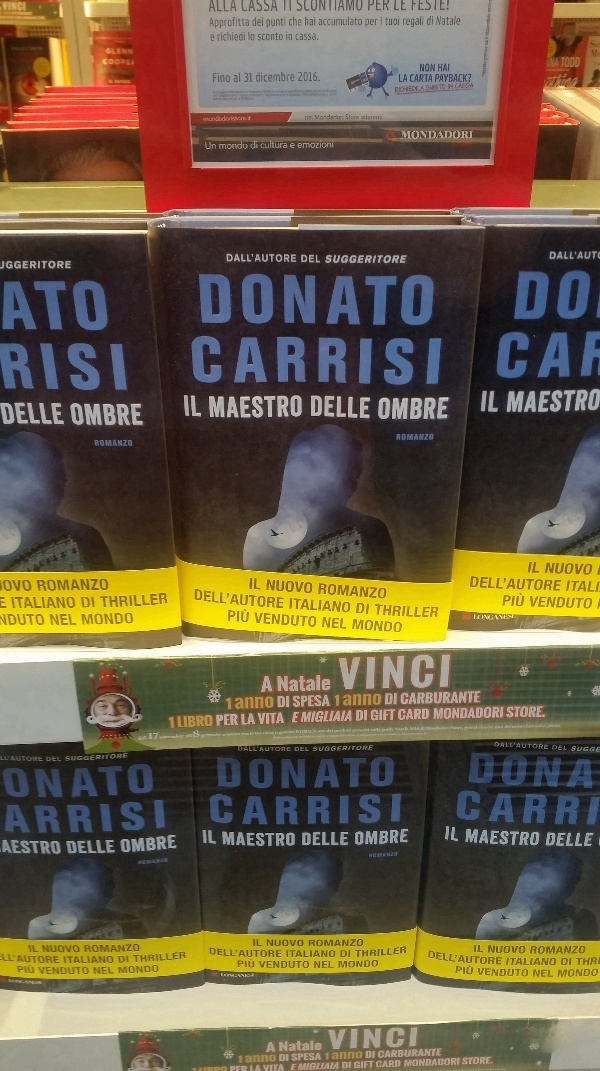text: (209, 268, 224, 331), (225, 268, 240, 331), (241, 268, 256, 331), (257, 268, 272, 331), (273, 268, 288, 331), (289, 268, 304, 331), (305, 268, 320, 331), (321, 268, 336, 331), (337, 268, 352, 331), (353, 268, 368, 331), (369, 268, 384, 331), (385, 268, 400, 331), (401, 268, 416, 331), (417, 268, 432, 331), (482, 13, 496, 79), (193, 331, 208, 392), (209, 331, 224, 392), (225, 331, 240, 392), (241, 331, 256, 392), (257, 331, 272, 392), (273, 331, 288, 392), (289, 331, 304, 392), (305, 331, 320, 392), (321, 331, 336, 392), (337, 331, 352, 392), (353, 331, 368, 392), (369, 331, 384, 392), (385, 331, 400, 392), (401, 331, 416, 392), (417, 331, 432, 392), (17, 277, 32, 334), (33, 277, 48, 334), (49, 277, 64, 334), (65, 277, 80, 334), (81, 277, 96, 334), (529, 268, 544, 324), (545, 268, 560, 324), (561, 268, 576, 324), (577, 268, 592, 324), (1, 340, 16, 394), (17, 340, 32, 394), (33, 340, 48, 394), (49, 340, 64, 394), (65, 340, 80, 394), (81, 340, 96, 394), (97, 340, 112, 394), (113, 340, 128, 394), (513, 328, 528, 381), (529, 328, 544, 381), (545, 328, 560, 381), (97, 277, 110, 334), (481, 746, 496, 793), (497, 746, 512, 793), (513, 746, 528, 793), (529, 746, 544, 793), (545, 746, 560, 793), (561, 746, 576, 793), (577, 746, 592, 793), (197, 268, 208, 331), (465, 788, 480, 834), (481, 788, 496, 834), (497, 788, 512, 834), (513, 788, 528, 834), (529, 788, 544, 834), (545, 788, 560, 834), (561, 788, 576, 834), (577, 788, 592, 834), (499, 328, 512, 381), (4, 277, 16, 334), (433, 331, 444, 392), (17, 796, 32, 839), (33, 796, 48, 839), (49, 796, 64, 839), (65, 796, 80, 839), (81, 796, 96, 839), (97, 796, 112, 839), (113, 796, 128, 839), (129, 796, 144, 839), (145, 796, 160, 839), (17, 762, 32, 803), (33, 762, 48, 803), (49, 762, 64, 803), (65, 762, 80, 803), (81, 762, 96, 803), (97, 762, 112, 803), (113, 762, 128, 803), (129, 762, 144, 803), (225, 753, 240, 794), (241, 753, 256, 794), (257, 753, 272, 794), (273, 753, 288, 794), (289, 753, 304, 794), (305, 753, 320, 794), (321, 753, 336, 794), (337, 753, 352, 794), (353, 753, 368, 794), (369, 753, 384, 794), (353, 653, 368, 693), (369, 653, 384, 693), (385, 653, 400, 693), (401, 653, 416, 693), (417, 653, 432, 693), (433, 653, 448, 693), (209, 790, 224, 830), (225, 790, 240, 830), (241, 790, 256, 830), (257, 790, 272, 830), (273, 790, 288, 830), (289, 790, 304, 830), (305, 790, 320, 830), (321, 790, 336, 830), (337, 790, 352, 830), (353, 790, 368, 830), (369, 790, 384, 830), (385, 790, 400, 830), (2, 762, 16, 803), (518, 268, 528, 324), (338, 653, 352, 693), (561, 328, 571, 381), (5, 796, 16, 839), (470, 746, 480, 793), (145, 762, 156, 803), (385, 753, 396, 794), (513, 386, 528, 416), (529, 386, 544, 416), (545, 386, 560, 416), (561, 386, 576, 416), (577, 386, 592, 416), (385, 393, 400, 423), (401, 393, 416, 423), (417, 393, 432, 423), (433, 393, 448, 423), (209, 393, 224, 421), (225, 393, 240, 421), (241, 393, 256, 421), (257, 393, 272, 421), (273, 393, 288, 421), (321, 392, 336, 420), (337, 392, 352, 420), (353, 392, 368, 420), (81, 401, 96, 428), (97, 401, 112, 428), (113, 401, 128, 428), (129, 401, 144, 428), (289, 393, 303, 421), (585, 327, 592, 383), (593, 327, 600, 383), (1, 401, 16, 427), (17, 401, 32, 427), (33, 401, 48, 427), (49, 401, 64, 427), (482, 388, 496, 415), (209, 586, 224, 611), (225, 586, 240, 611), (241, 586, 256, 611), (257, 586, 272, 611), (337, 1027, 352, 1052), (353, 1027, 368, 1052), (369, 1027, 384, 1052), (385, 1027, 400, 1052), (401, 1027, 416, 1052), (194, 586, 208, 611), (161, 834, 177, 855), (321, 581, 336, 603), (337, 581, 352, 603), (353, 581, 368, 603), (369, 581, 384, 603), (481, 826, 496, 848), (497, 826, 512, 848), (513, 826, 528, 848), (216, 753, 224, 794), (457, 788, 464, 834), (593, 788, 600, 834), (129, 834, 144, 855), (145, 834, 160, 855), (257, 609, 272, 630), (273, 609, 288, 630), (289, 609, 304, 630), (466, 826, 480, 848), (289, 595, 304, 615), (305, 595, 320, 615), (321, 595, 336, 615), (289, 674, 304, 694), (305, 674, 320, 694), (481, 575, 496, 594), (497, 575, 512, 594), (513, 575, 528, 594), (529, 575, 544, 594), (545, 575, 560, 594), (273, 577, 288, 596), (289, 577, 304, 596), (353, 617, 368, 636), (369, 617, 384, 636), (385, 617, 400, 636), (401, 689, 416, 708), (417, 689, 432, 708), (433, 689, 448, 708), (449, 689, 464, 708), (465, 689, 480, 708), (310, 392, 320, 420), (337, 595, 351, 615), (273, 586, 284, 611), (577, 560, 593, 577), (70, 401, 80, 428), (49, 576, 64, 594), (65, 576, 80, 594), (81, 576, 96, 594), (81, 594, 96, 612), (81, 610, 96, 628), (97, 610, 112, 628), (113, 610, 128, 628), (385, 602, 400, 620), (401, 602, 416, 620), (417, 602, 432, 620), (241, 695, 256, 713), (257, 695, 272, 713), (369, 828, 384, 846), (385, 828, 400, 846), (529, 826, 541, 848), (161, 796, 167, 839), (561, 560, 576, 577), (545, 594, 560, 611), (561, 594, 576, 611), (577, 594, 592, 611), (17, 577, 32, 594), (81, 839, 96, 856), (97, 839, 112, 856), (177, 713, 192, 730), (193, 713, 208, 730), (305, 692, 320, 709), (353, 691, 368, 708), (385, 691, 400, 708), (449, 704, 464, 721), (465, 704, 480, 721), (481, 704, 496, 721), (513, 704, 528, 721), (529, 704, 544, 721), (561, 831, 576, 848), (577, 831, 592, 848), (433, 949, 448, 966), (449, 949, 464, 966), (465, 949, 480, 966), (481, 949, 496, 966), (561, 72, 576, 89), (305, 609, 317, 630), (17, 595, 32, 611), (33, 595, 48, 611), (49, 595, 64, 611), (17, 613, 32, 629), (17, 839, 32, 855), (33, 839, 48, 855), (193, 394, 203, 418), (241, 711, 256, 727), (257, 711, 272, 727), (305, 709, 320, 725), (321, 709, 336, 725), (337, 709, 352, 725), (401, 707, 416, 723), (305, 831, 320, 847), (321, 831, 336, 847), (225, 831, 240, 847), (241, 831, 256, 847), (257, 831, 272, 847), (273, 831, 288, 847), (546, 560, 560, 577), (530, 594, 544, 611), (66, 839, 80, 856), (434, 704, 448, 721), (546, 72, 560, 89), (355, 828, 368, 846), (529, 560, 544, 575), (577, 580, 592, 595), (113, 593, 128, 608), (129, 593, 144, 608), (145, 593, 160, 608), (49, 613, 64, 628), (113, 751, 129, 765), (2, 839, 16, 855), (49, 839, 63, 855), (226, 696, 240, 712), (225, 712, 239, 728), (3, 577, 16, 594), (369, 691, 382, 708), (547, 831, 560, 848), (277, 674, 288, 694), (513, 591, 525, 609), (97, 576, 109, 594), (225, 16, 240, 30), (593, 386, 600, 416), (65, 613, 79, 628), (65, 751, 80, 765), (81, 751, 96, 765), (97, 751, 112, 765), (289, 1040, 304, 1054), (305, 1040, 320, 1054), (561, 56, 576, 70), (305, 71, 321, 84), (323, 615, 336, 631), (273, 711, 286, 727), (371, 708, 384, 724), (417, 707, 430, 723), (292, 692, 304, 709), (321, 674, 331, 694), (328, 1027, 336, 1052), (37, 576, 48, 594), (229, 606, 240, 624), (277, 693, 288, 711), (449, 825, 460, 843), (210, 16, 224, 30), (17, 259, 32, 272), (33, 259, 48, 272), (49, 259, 64, 272), (257, 71, 272, 84), (273, 71, 288, 84), (417, 129, 432, 142), (433, 129, 448, 142), (449, 129, 464, 142), (145, 951, 160, 964), (161, 951, 176, 964), (337, 253, 352, 266), (353, 253, 368, 266), (369, 253, 384, 266), (385, 253, 400, 266), (209, 946, 224, 959), (225, 946, 240, 959), (241, 946, 256, 959), (257, 946, 272, 959), (385, 1047, 400, 1060), (401, 1047, 416, 1060), (417, 1047, 432, 1060), (65, 595, 77, 611), (33, 613, 45, 629), (184, 394, 192, 418), (356, 708, 368, 724), (337, 831, 349, 847), (433, 268, 436, 331), (273, 16, 286, 30), (403, 15, 416, 29), (402, 129, 416, 142), (241, 958, 255, 971), (289, 16, 304, 28), (225, 31, 240, 43), (273, 139, 288, 151), (561, 250, 576, 262), (577, 250, 592, 262), (100, 593, 112, 608), (17, 753, 32, 765), (17, 953, 32, 965), (33, 953, 48, 965), (369, 946, 384, 958), (385, 946, 400, 958), (257, 1053, 272, 1065), (1, 597, 16, 609), (1, 614, 16, 626), (241, 1, 256, 13), (257, 1, 272, 13), (369, 1, 384, 13), (305, 254, 321, 265), (337, 615, 348, 631), (385, 708, 396, 724), (513, 967, 529, 978), (433, 1, 449, 12), (471, 575, 480, 594), (321, 692, 331, 709), (120, 834, 128, 855), (2, 953, 16, 965), (264, 674, 272, 695), (2, 1, 16, 13), (210, 1, 224, 13), (305, 16, 320, 27), (321, 16, 336, 27), (337, 16, 352, 27), (385, 16, 400, 27), (449, 73, 464, 84), (225, 140, 240, 151), (305, 139, 320, 150), (17, 964, 32, 975), (49, 965, 64, 976), (65, 965, 80, 976), (129, 964, 144, 975), (241, 253, 256, 264), (257, 253, 272, 264), (273, 253, 288, 264), (357, 602, 368, 617), (481, 967, 496, 978), (497, 967, 512, 978), (513, 957, 528, 968), (529, 957, 544, 968), (305, 1052, 320, 1063), (337, 1051, 352, 1062), (465, 1056, 480, 1067), (305, 1, 320, 12), (321, 1, 336, 12), (337, 1, 352, 12), (417, 1, 432, 12), (375, 602, 384, 620), (241, 606, 250, 624), (417, 73, 433, 83), (385, 1060, 401, 1070), (449, 15, 461, 28), (132, 951, 144, 964), (355, 946, 368, 958), (258, 32, 272, 43), (145, 964, 159, 975), (226, 253, 240, 264), (321, 959, 335, 970), (343, 691, 352, 708), (305, 577, 313, 596), (97, 438, 112, 448), (113, 438, 128, 448), (49, 944, 64, 954), (65, 944, 80, 954), (65, 955, 80, 965), (81, 955, 96, 965), (97, 955, 112, 965), (97, 944, 112, 954), (113, 944, 128, 954), (97, 966, 112, 976), (379, 393, 384, 423), (497, 741, 512, 751), (513, 741, 528, 751), (529, 741, 544, 751), (321, 938, 336, 948), (337, 938, 352, 948), (497, 945, 512, 955), (545, 945, 560, 955), (561, 945, 576, 955), (561, 968, 576, 978), (577, 968, 592, 978), (577, 957, 592, 967), (353, 959, 368, 969), (289, 949, 304, 959), (305, 949, 320, 959), (321, 949, 336, 959), (273, 960, 288, 970), (289, 960, 304, 970), (417, 1058, 432, 1068), (433, 1058, 448, 1068), (244, 72, 256, 84), (504, 591, 512, 609), (7, 613, 16, 629), (4, 753, 16, 765), (401, 828, 409, 846), (209, 829, 218, 845), (225, 1, 237, 13), (437, 15, 448, 28), (435, 73, 448, 84), (321, 139, 334, 150), (481, 1056, 494, 1067), (49, 754, 63, 764), (294, 711, 304, 725), (338, 959, 352, 969), (354, 1060, 368, 1070), (168, 714, 176, 731), (209, 114, 224, 123), (225, 114, 240, 123), (401, 85, 416, 94), (567, 580, 576, 595), (481, 613, 496, 622), (497, 613, 512, 622), (145, 858, 160, 867), (225, 94, 240, 103), (401, 433, 416, 442), (417, 433, 432, 442), (273, 939, 288, 948), (289, 939, 304, 948), (305, 1062, 320, 1071), (321, 1062, 336, 1071), (1, 261, 16, 270), (593, 40, 600, 59), (213, 72, 224, 84), (261, 139, 272, 151), (549, 250, 560, 262), (33, 753, 44, 765), (49, 953, 60, 965), (545, 957, 557, 968), (245, 1053, 256, 1065), (292, 1052, 304, 1063), (6, 259, 16, 272), (326, 253, 336, 266), (513, 945, 526, 955), (531, 945, 544, 955), (259, 960, 272, 970), (321, 88, 337, 96), (216, 712, 224, 728), (241, 16, 250, 30), (305, 33, 319, 42), (241, 94, 255, 103), (562, 958, 576, 967), (279, 1040, 288, 1054), (273, 32, 284, 43), (321, 113, 336, 121), (420, 63, 432, 73), (508, 386, 512, 416), (161, 593, 169, 608), (84, 944, 96, 954), (17, 978, 32, 986), (225, 88, 240, 96), (241, 88, 256, 96), (257, 88, 272, 96), (273, 88, 288, 96), (289, 88, 304, 96), (305, 88, 320, 96), (577, 745, 592, 753), (369, 851, 384, 859), (321, 745, 336, 753), (337, 745, 352, 753), (353, 745, 368, 753), (401, 790, 404, 830), (497, 704, 504, 721), (211, 34, 224, 43), (433, 83, 446, 92), (465, 129, 474, 142), (177, 951, 186, 964), (465, 963, 474, 976), (273, 946, 282, 959), (433, 1047, 442, 1060), (369, 113, 383, 121), (290, 142, 304, 150), (289, 831, 296, 847), (353, 16, 363, 27), (38, 965, 48, 976), (129, 944, 140, 954), (118, 964, 128, 975), (309, 938, 320, 948), (353, 938, 364, 948), (325, 1052, 336, 1062), (353, 1051, 363, 1062), (405, 1058, 416, 1068), (449, 1058, 460, 1068), (353, 1, 363, 12), (212, 94, 224, 103), (433, 602, 439, 620), (234, 695, 240, 713), (17, 1, 26, 13), (593, 580, 600, 595), (225, 972, 240, 979), (241, 746, 256, 753), (257, 746, 272, 753), (273, 746, 288, 753), (113, 48, 128, 55), (113, 58, 128, 65), (385, 851, 398, 859), (456, 963, 464, 976), (506, 704, 512, 721), (438, 63, 448, 73), (118, 955, 128, 965), (577, 945, 587, 955), (369, 959, 379, 969), (342, 1061, 352, 1071), (369, 18, 378, 29), (241, 114, 252, 123), (417, 15, 424, 29), (306, 114, 320, 121), (241, 972, 255, 979), (202, 829, 208, 845), (340, 950, 352, 958), (267, 577, 272, 596), (593, 746, 595, 793), (65, 259, 72, 272), (129, 610, 134, 628), (534, 969, 544, 978), (248, 31, 256, 42), (465, 73, 473, 84), (209, 141, 217, 152), (241, 140, 249, 151), (81, 965, 89, 976), (213, 88, 224, 96), (289, 253, 297, 264), (497, 949, 502, 966), (257, 16, 264, 28), (266, 16, 272, 30), (545, 969, 554, 978), (279, 1054, 288, 1063), (11, 595, 16, 611), (449, 653, 451, 693), (488, 945, 496, 955), (376, 1060, 384, 1070), (234, 71, 240, 84), (289, 71, 295, 84), (298, 71, 304, 84), (401, 253, 407, 266), (250, 578, 256, 591), (378, 1047, 384, 1060), (297, 1, 304, 12), (489, 1, 496, 12), (218, 31, 224, 43), (296, 33, 304, 42), (225, 72, 231, 84), (455, 82, 464, 90), (465, 82, 474, 90), (33, 944, 41, 953), (33, 978, 42, 986), (401, 946, 407, 958), (401, 73, 408, 83), (209, 713, 213, 730), (577, 72, 581, 89), (298, 139, 304, 150), (314, 959, 320, 970), (394, 1, 400, 12), (257, 578, 262, 591), (417, 85, 424, 94), (161, 858, 168, 867), (369, 1051, 376, 1060), (295, 746, 304, 753), (103, 58, 112, 65), (191, 331, 192, 392), (427, 15, 432, 27), (241, 31, 246, 43), (410, 73, 416, 83), (593, 250, 598, 262), (42, 944, 48, 954), (257, 938, 263, 948), (273, 1, 278, 13), (337, 113, 344, 121), (353, 113, 360, 121), (593, 268, 594, 324), (9, 978, 16, 986), (369, 392, 371, 420), (593, 745, 600, 753), (577, 56, 581, 70), (219, 140, 224, 151), (251, 140, 256, 151), (507, 957, 512, 968), (331, 1051, 336, 1062), (401, 1, 406, 12), (426, 83, 432, 92), (497, 388, 499, 415), (474, 613, 480, 622), (138, 858, 144, 867), (474, 944, 480, 953), (113, 839, 116, 856), (429, 949, 432, 966), (129, 438, 134, 448), (593, 968, 598, 978), (593, 957, 598, 967), (305, 960, 310, 970), (369, 1060, 374, 1070), (417, 1027, 419, 1052), (553, 744, 560, 751), (561, 744, 568, 751), (346, 113, 352, 121), (362, 113, 368, 121), (337, 692, 340, 708), (273, 1053, 277, 1065), (314, 745, 320, 753), (385, 1, 389, 13), (203, 114, 208, 123), (395, 85, 400, 94), (267, 939, 272, 948), (299, 1062, 304, 1071), (289, 31, 293, 42), (385, 581, 387, 603), (284, 1, 288, 12), (412, 1, 416, 12), (254, 609, 256, 630), (106, 48, 112, 55), (129, 58, 135, 65), (315, 113, 320, 121), (545, 741, 549, 751), (369, 745, 374, 753), (401, 617, 403, 636), (590, 40, 592, 59), (253, 16, 256, 28), (28, 944, 32, 953), (396, 433, 400, 442), (446, 825, 448, 843), (269, 1042, 272, 1054), (273, 1042, 276, 1054), (305, 746, 310, 753), (129, 48, 134, 55), (545, 704, 547, 721), (381, 16, 384, 27), (205, 141, 208, 152), (301, 254, 304, 265), (477, 967, 480, 978), (302, 709, 304, 725), (334, 692, 336, 708), (398, 707, 400, 723), (572, 745, 576, 753), (302, 831, 304, 847), (222, 831, 224, 847), (433, 63, 436, 73), (45, 754, 48, 764), (93, 966, 96, 976), (449, 393, 450, 423), (253, 938, 256, 948), (449, 83, 453, 90), (481, 944, 484, 953), (65, 401, 66, 427), (238, 958, 240, 971), (366, 18, 368, 29), (286, 31, 288, 42), (257, 140, 259, 151), (319, 581, 320, 603), (289, 1, 291, 12), (273, 674, 274, 695), (221, 972, 224, 979), (94, 438, 96, 448), (113, 966, 115, 976), (286, 949, 288, 959), (238, 1055, 240, 1065), (561, 575, 562, 594), (481, 689, 482, 708), (273, 695, 274, 713), (289, 693, 290, 711), (337, 1062, 339, 1071), (366, 1051, 368, 1060), (593, 594, 594, 611), (593, 831, 594, 848), (369, 602, 370, 617), (321, 1040, 322, 1054), (238, 746, 240, 753), (289, 746, 291, 753), (433, 15, 434, 27), (319, 16, 320, 27), (33, 964, 34, 975), (321, 1052, 322, 1063), (463, 1056, 464, 1067), (449, 63, 450, 73), (399, 73, 400, 83), (63, 955, 64, 965), (113, 955, 114, 965), (495, 741, 496, 751), (559, 968, 560, 978), (241, 1055, 242, 1065), (433, 433, 434, 442)
